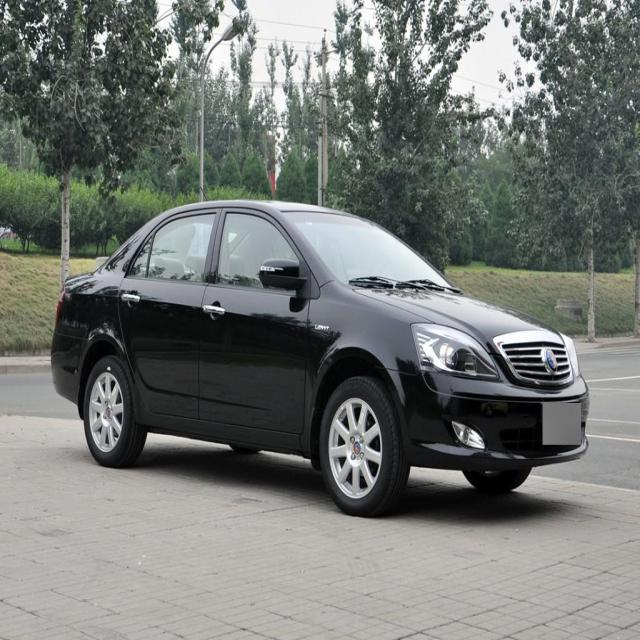door: (121, 205, 221, 427)
front_bumper: (384, 366, 590, 466)
front_glass: (280, 208, 454, 292)
front_right_side_door: (196, 204, 311, 437)
front_right_side_light: (410, 319, 499, 383)
front_right_side_mirror: (258, 256, 302, 293)
rear_bumper: (49, 290, 84, 403)
wheel: (316, 376, 398, 513), (84, 358, 137, 466)
